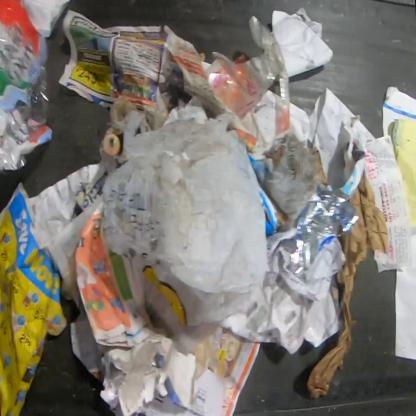cardboard: (306, 166, 390, 401), (248, 137, 287, 237)
rigid_plastic: (203, 13, 292, 137)
soft_plastic: (97, 84, 268, 382), (0, 0, 50, 173), (288, 184, 360, 277), (258, 132, 324, 232)
